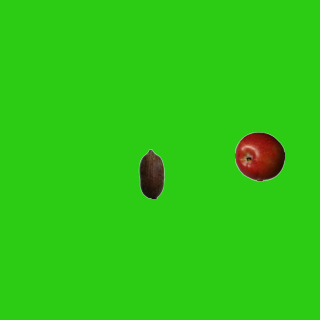Apple Braeburn: (234, 131, 284, 181)
Nut Pecan: (126, 148, 176, 198)
